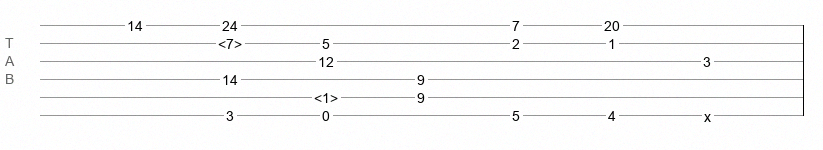0: (322, 108, 330, 118)
1: (608, 36, 616, 46)
12: (318, 54, 334, 64)
14: (127, 18, 143, 28), (222, 72, 238, 82)
2: (512, 36, 520, 46)
20: (604, 18, 620, 28)
24: (222, 18, 238, 28)
3: (226, 108, 234, 118), (703, 54, 711, 64)
4: (608, 108, 616, 118)
5: (322, 36, 330, 46), (512, 108, 520, 118)
7: (512, 18, 520, 28)
9: (417, 72, 425, 82), (417, 90, 425, 100)
harmonic: (218, 36, 242, 46), (314, 90, 338, 100)
x: (704, 109, 711, 117)
